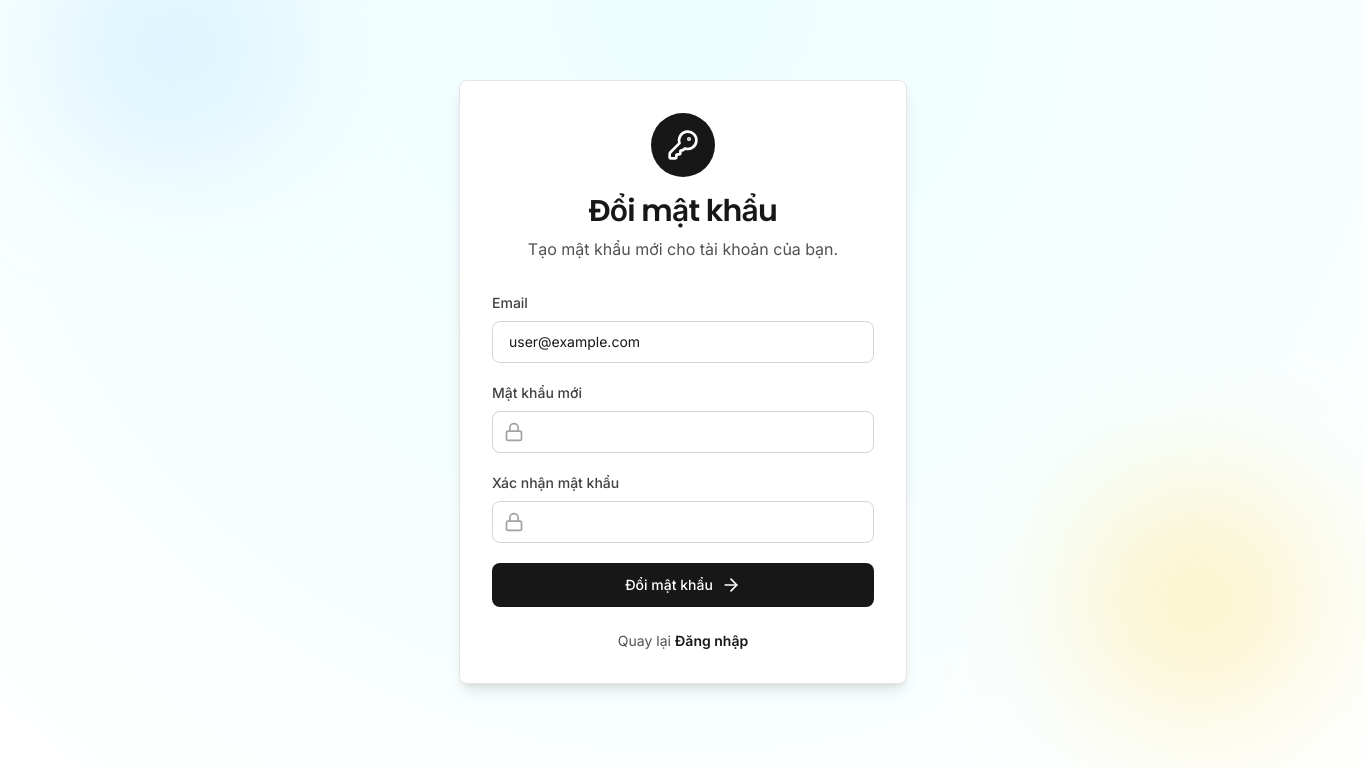
Test: ResetPasswordPage › hien thi loi khi mat khau moi duoi 5 ky tu
Type "1234" into the 1st password field. click: (683,432)
box: [492,411,874,453]
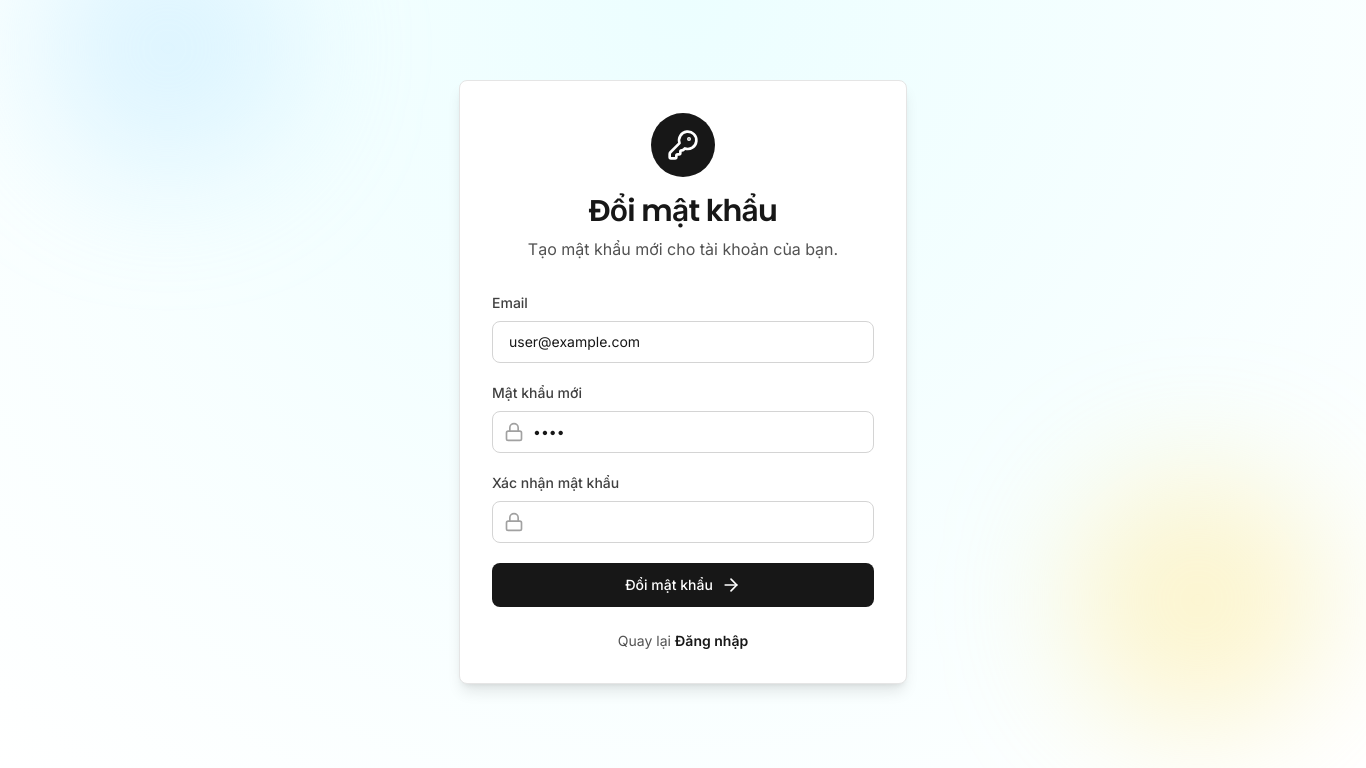
Type "1234" into the password field below "Xác nhận mật khẩu". click: (683,522)
box: [492,501,874,543]
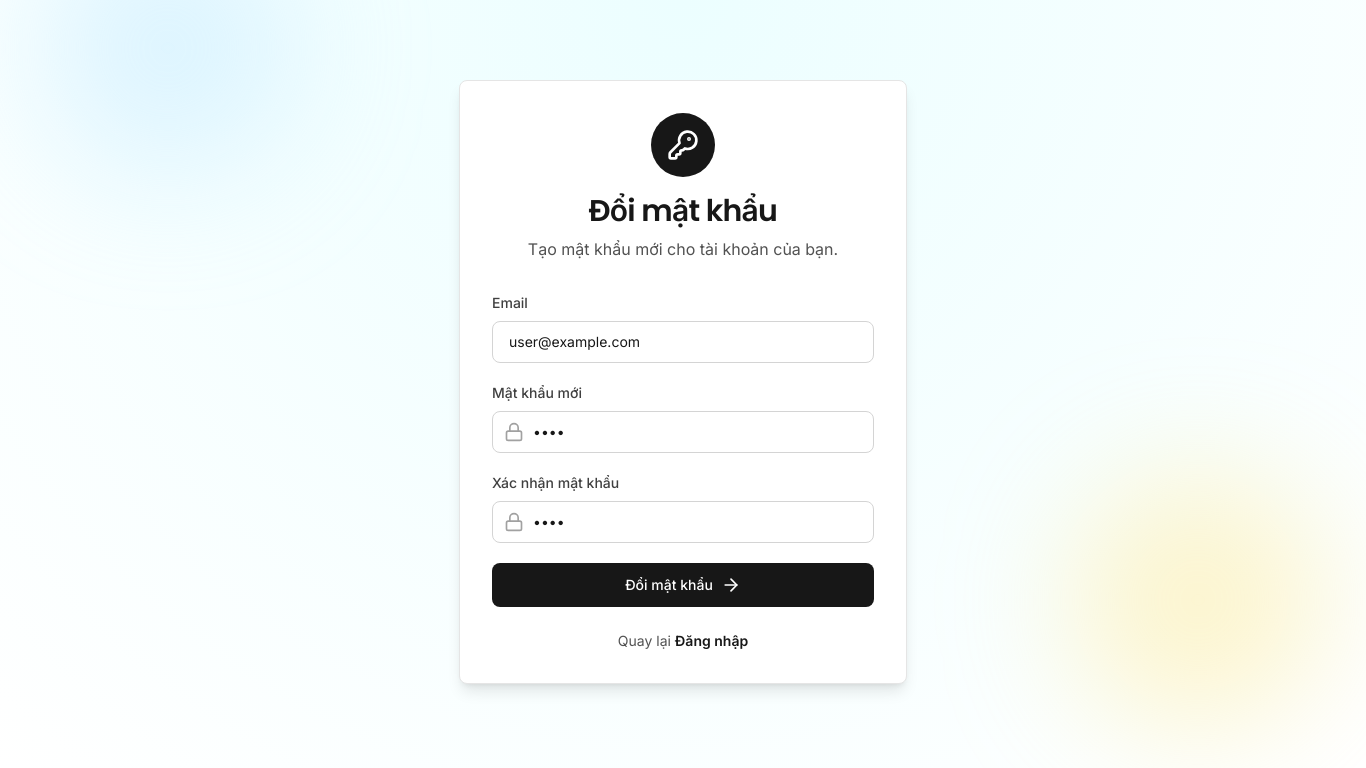
Click the submit button. click: (683,585)
box: [492,563,874,607]
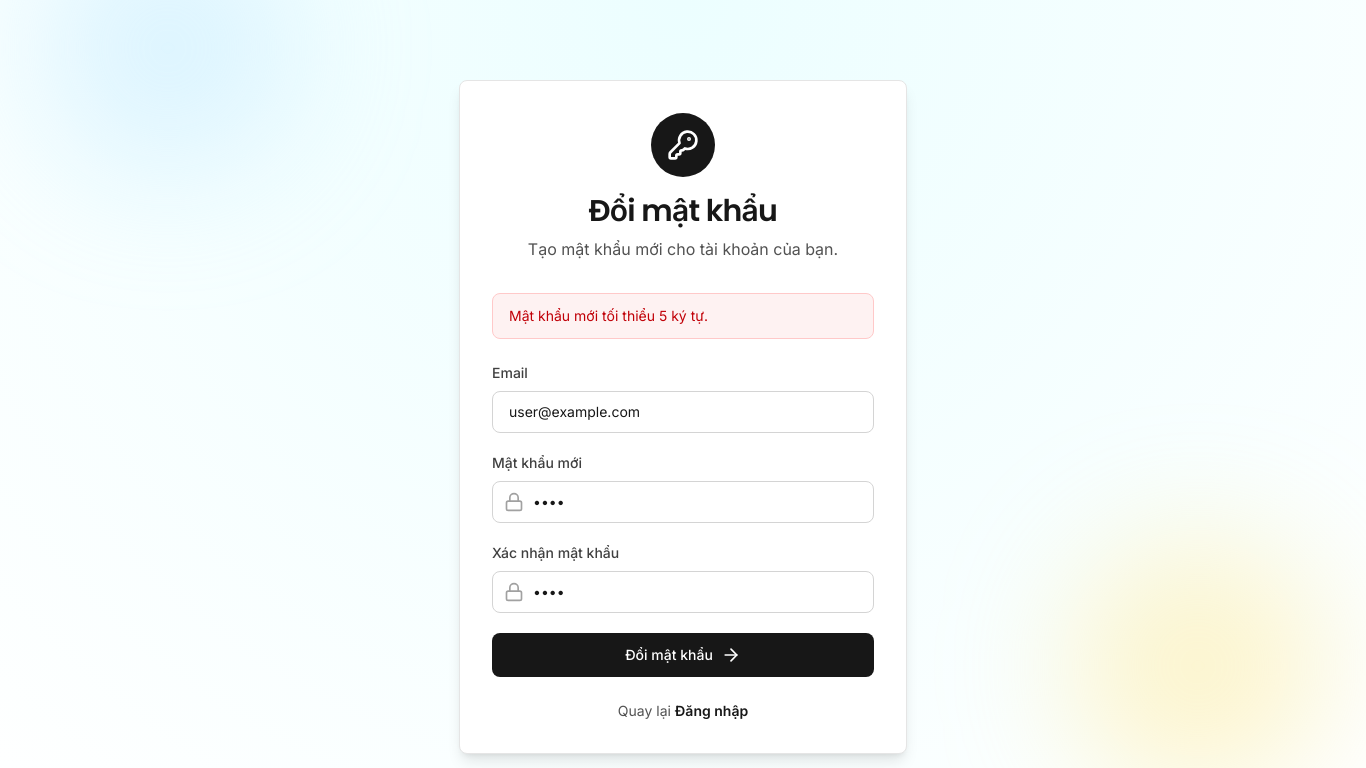
Now the text "Mật khẩu mới tối thiểu 5 ký tự." is shown, box [492,293,874,339]
